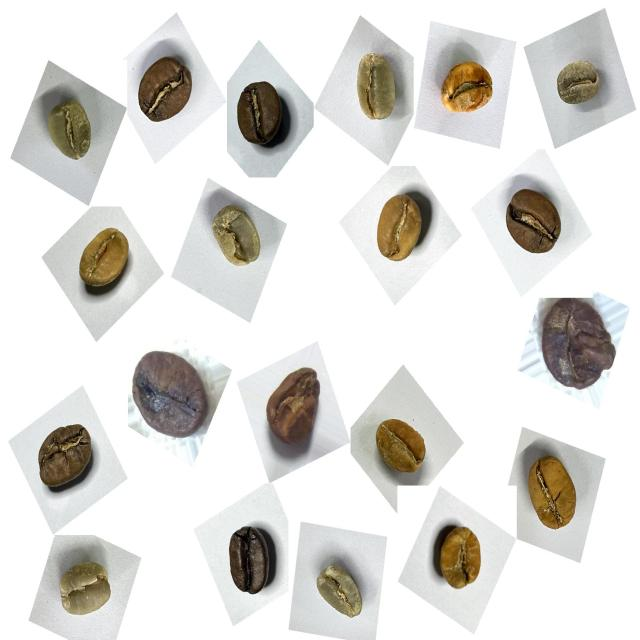bad: (531, 290, 622, 401), (128, 336, 219, 447), (256, 358, 330, 462)
dark: (210, 513, 282, 605)
green: (335, 41, 406, 136), (195, 195, 269, 282), (49, 546, 122, 630), (34, 88, 101, 175), (304, 552, 372, 634), (549, 49, 611, 117)
light: (514, 438, 591, 544), (363, 179, 441, 275), (69, 216, 145, 310), (424, 512, 498, 604), (430, 42, 506, 128), (366, 402, 438, 488)
medium: (129, 46, 205, 138), (29, 412, 106, 502), (496, 180, 571, 267), (228, 72, 300, 159)
